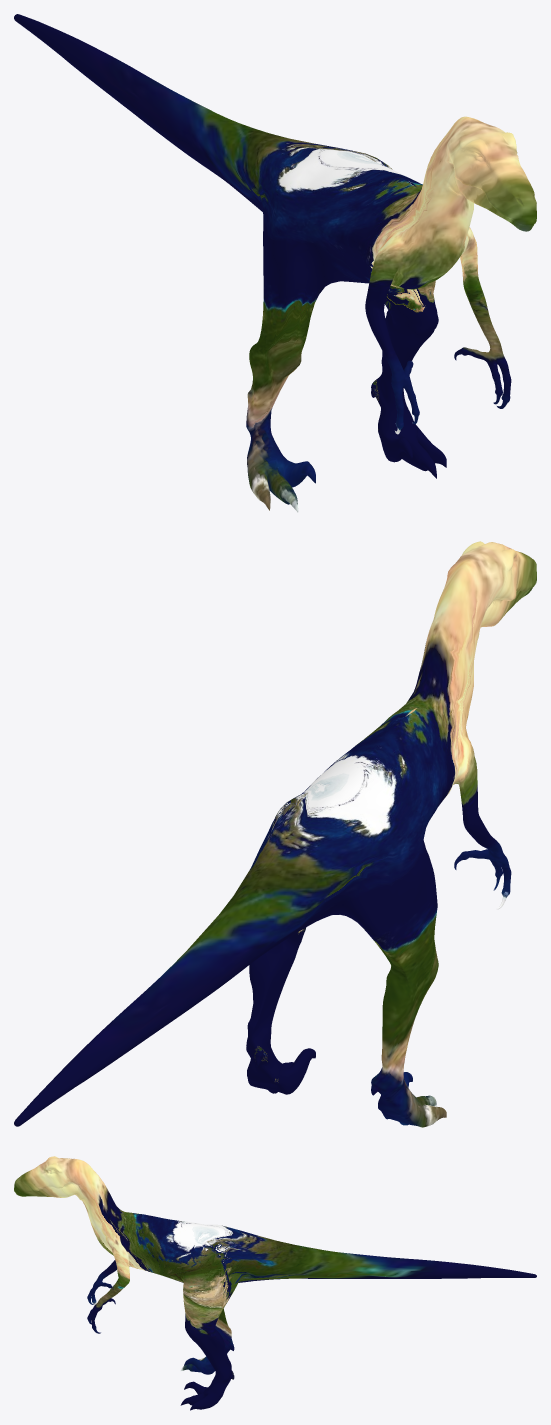
Rendered from dinosaur.glb.
3 views of the same model, one above another, from view 1: azimuth 30°, elevation 25°; view 2: azimuth 150°, elevation 25°; view 3: azimuth 270°, elevation 25° (orthographic). The views are drawn at different scales.
Visible parts, largest first — view 1: planet; view 2: planet; view 3: planet.
Part boxes in pixels (bbox=[...]): planet: bbox=[14, 14, 536, 512]; planet: bbox=[14, 541, 536, 1127]; planet: bbox=[14, 1156, 536, 1410].
Size of the model in its own units: 0.7354 by 1.76 by 3.64.
1 material, 1 textured.
